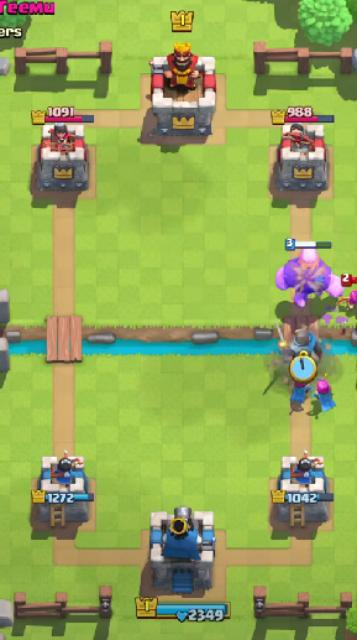ally_melee: (276, 238, 346, 306), (276, 319, 324, 366), (315, 374, 338, 411), (292, 375, 313, 403)
